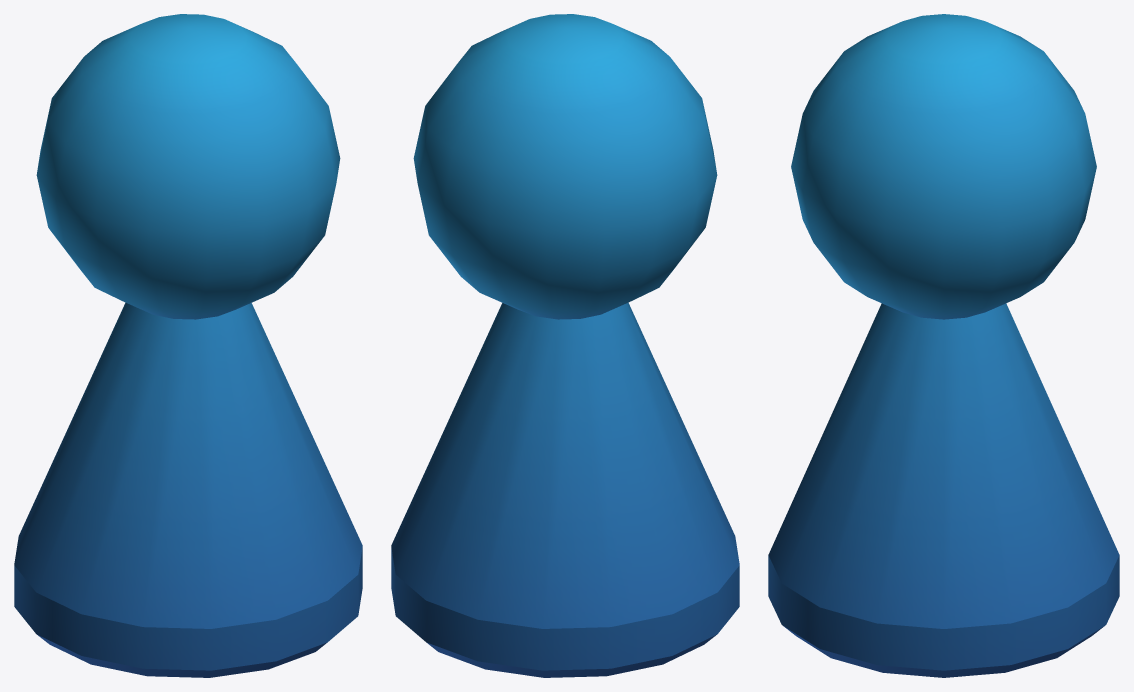
File: pawn-a-blue.glb
The picture shows the model from 3 angles, left to right: view 1: azimuth 30°, elevation 25°; view 2: azimuth 150°, elevation 25°; view 3: azimuth 270°, elevation 25°; orthographic projection.
Visible parts, largest first — view 1: pawn_A_blue; view 2: pawn_A_blue; view 3: pawn_A_blue.
Part boxes in pixels (x1,y1,x2,y2): pawn_A_blue: [14, 14, 362, 677]; pawn_A_blue: [391, 14, 739, 677]; pawn_A_blue: [768, 14, 1119, 677].
Bounding box in the file's own units: 0.5 × 0.9146 × 0.5.
Materials: 1 (1 with a texture image).
